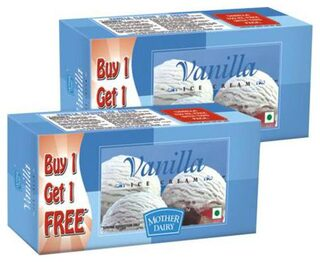Mother_Dairy: (140, 206, 188, 239)
